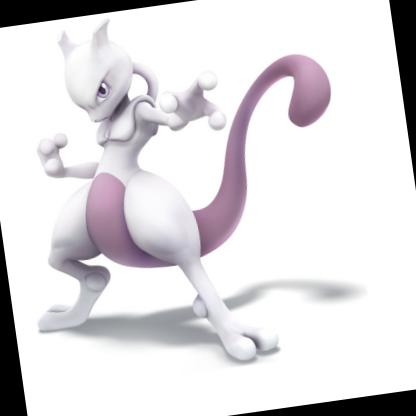Mewtwo: (1, 1, 384, 416)
